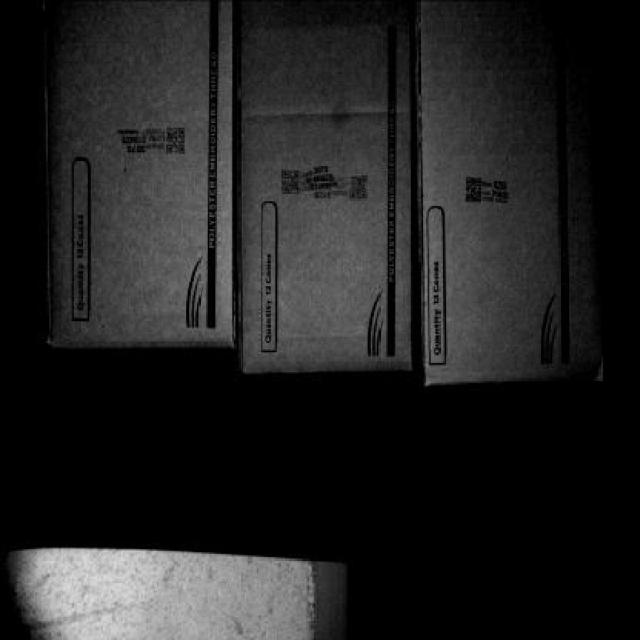cardboxes: (421, 3, 608, 382), (241, 8, 416, 372), (53, 8, 236, 348)
